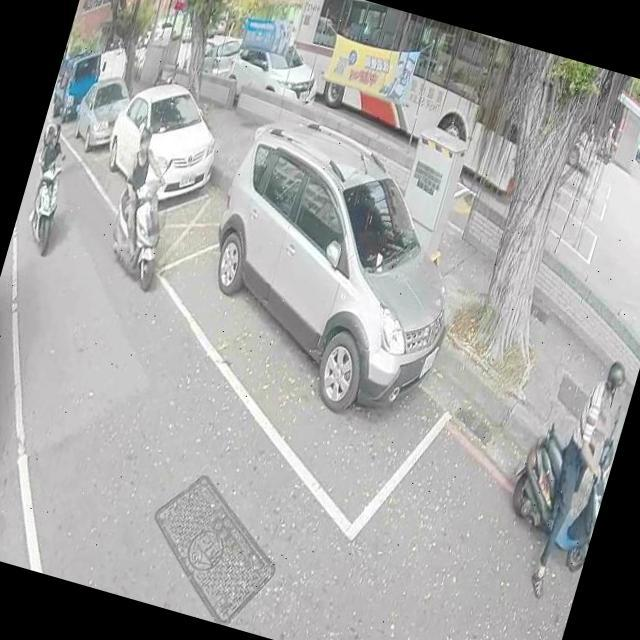person: (524, 346, 636, 602), (101, 124, 182, 266), (20, 115, 76, 230), (20, 121, 69, 220), (601, 120, 620, 154)
